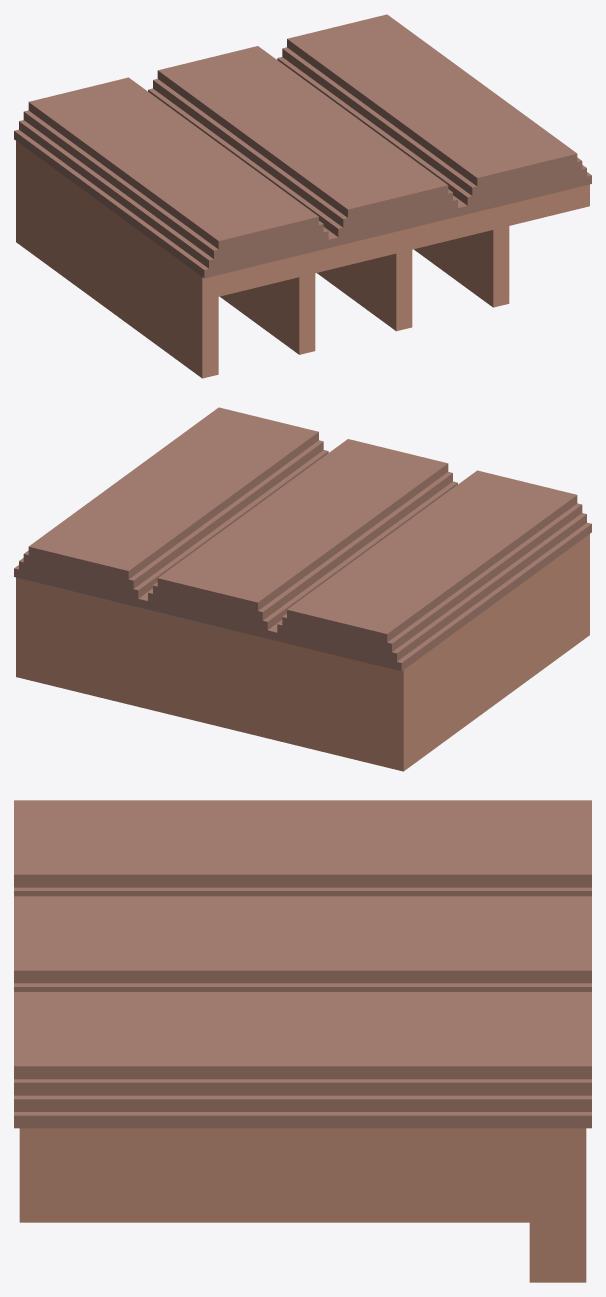
File: voxel-city-districts-bus-depot-40257331__24790.glb
3 views of the same model, one above another, from view 1: azimuth 30°, elevation 25°; view 2: azimuth 150°, elevation 25°; view 3: azimuth 270°, elevation 25° (orthographic). The views are drawn at different scales.
Parts seen in each view (by area): view 1: bus-depot-roof, bus-depot-brick; view 2: bus-depot-roof, bus-depot-brick; view 3: bus-depot-roof, bus-depot-brick.
Part boxes in pixels (bbox=[...]): bus-depot-roof: bbox=[14, 14, 591, 278]; bus-depot-brick: bbox=[16, 141, 589, 378]; bus-depot-roof: bbox=[14, 407, 591, 671]; bus-depot-brick: bbox=[16, 534, 589, 771]; bus-depot-roof: bbox=[14, 800, 591, 1128]; bus-depot-brick: bbox=[19, 1128, 586, 1282].
Size of the model in its own units: 12 by 4 by 10.2.
